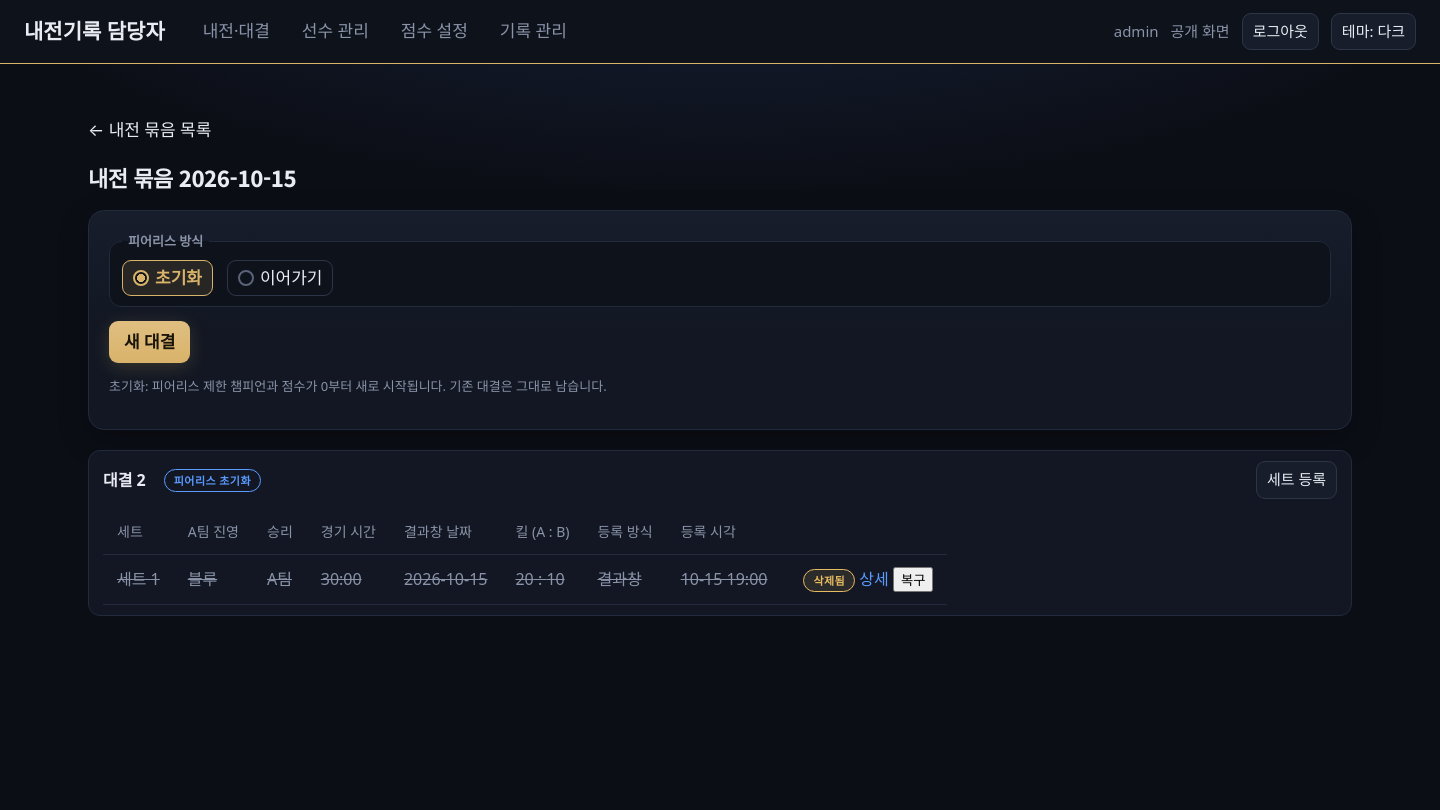
Scenario: SessionDetailPage 세트 삭제·복구 › 삭제된 줄의 복구를 누르면 POST 후 다시 불러오고 경고를 보여 준다
Click the button with aria-label "세트 1 복구".
click(913, 580)  # box [893,567,934,592]
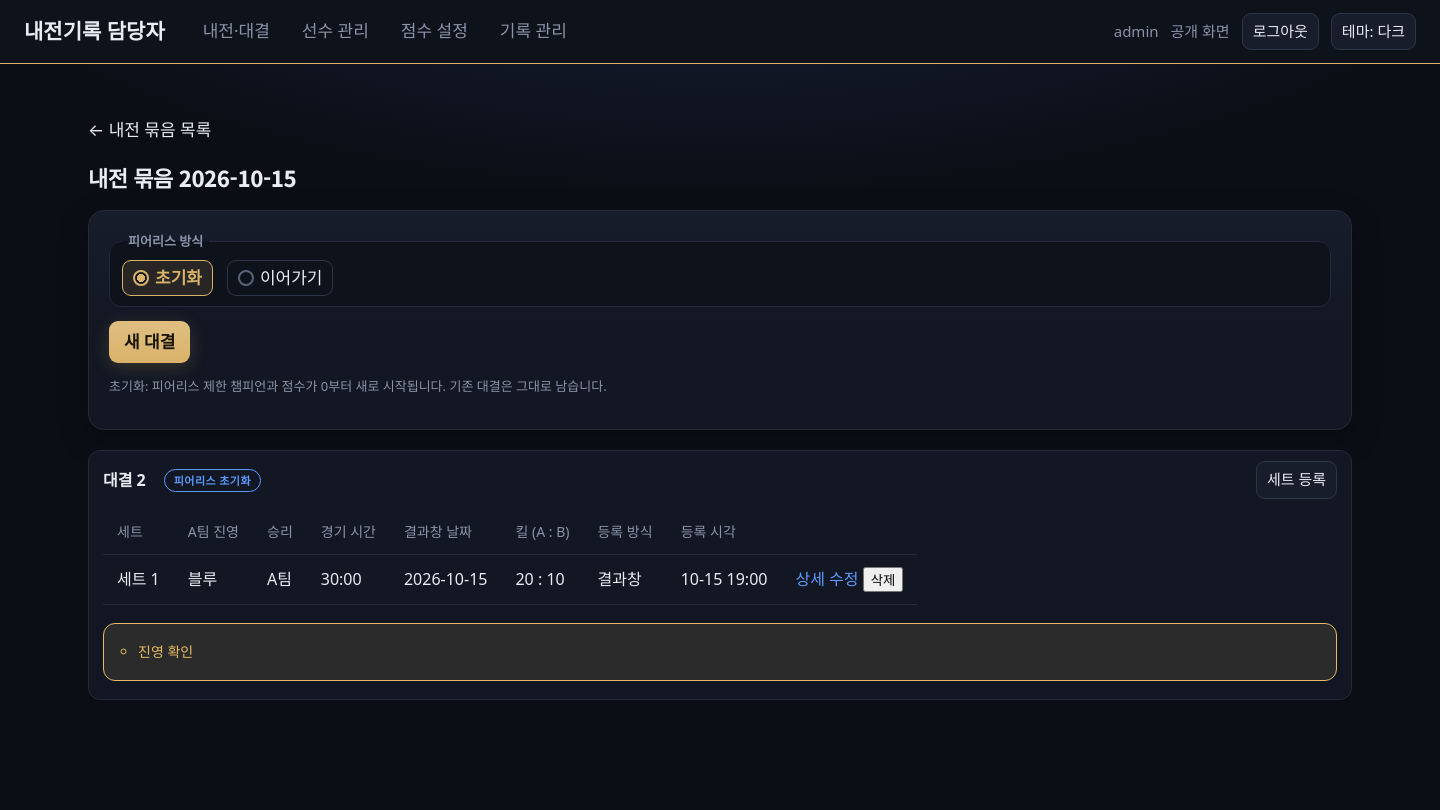
Expected: the button with aria-label "세트 1 삭제" is shown, [863,567,903,592]
Expected: the list item "진영 확인" is shown, [138,642,193,661]
